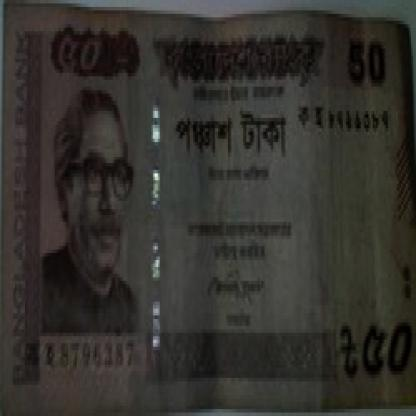Fifty taka: (338, 322, 414, 416), (52, 18, 110, 76)
